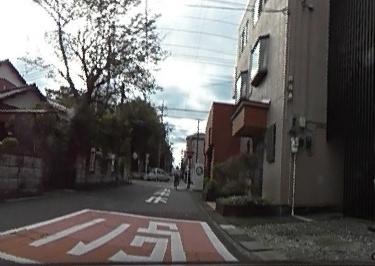person: (173, 165, 180, 186)
